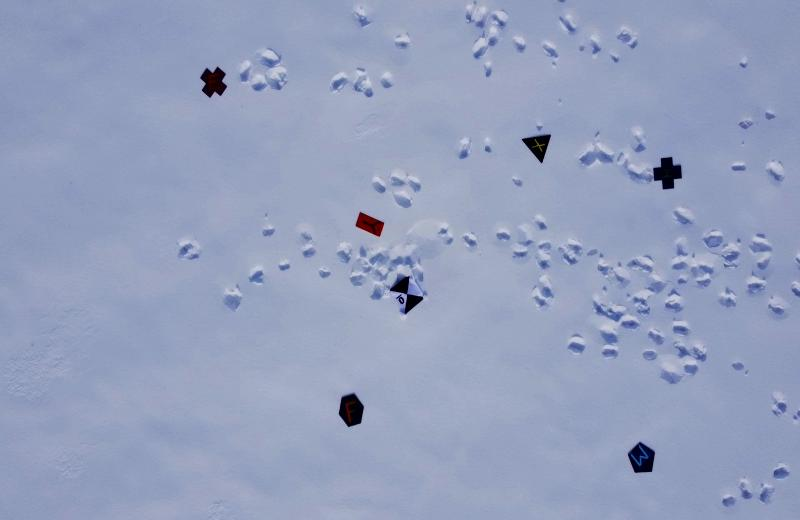Cross: (649, 156, 687, 191), (198, 66, 229, 100)
Hexagon: (338, 392, 366, 430)
Pentagon: (622, 441, 658, 477)
Rectangle: (353, 209, 386, 241)
Triangle: (518, 131, 555, 166)
